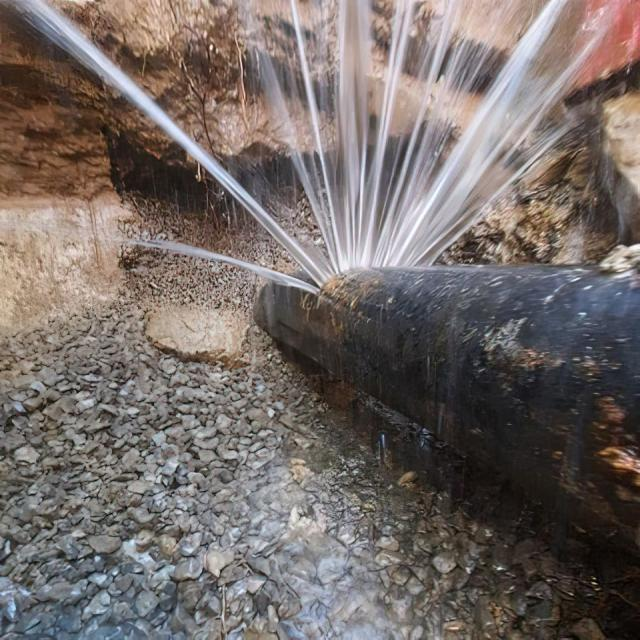leak: (9, 0, 637, 292)
